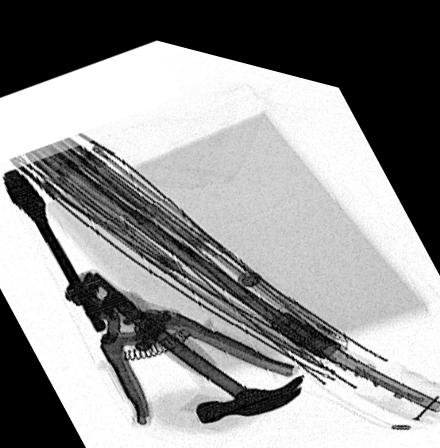Hammer: (67, 261, 304, 412)
Pliers: (58, 260, 307, 418)
Wrench: (0, 167, 108, 326)
